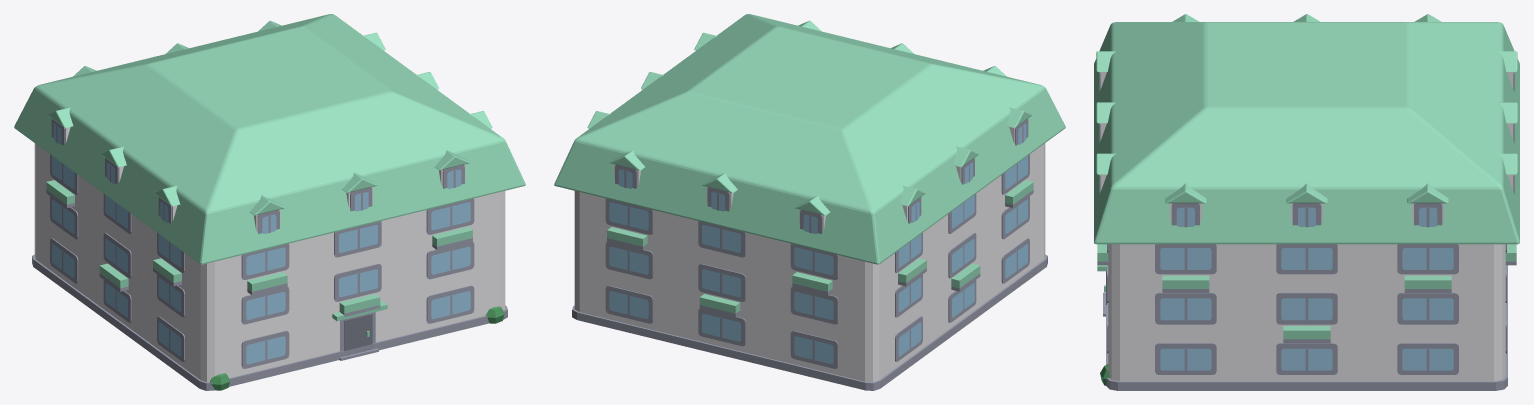
The model's file is house-2x2-3f-tone-a.glb.
The picture shows the model from 3 angles, left to right: view 1: azimuth 30°, elevation 25°; view 2: azimuth 150°, elevation 25°; view 3: azimuth 270°, elevation 25°; orthographic projection. The views are drawn at different scales.
Visible parts, largest first — view 1: house-2x2-3f-tone-a; view 2: house-2x2-3f-tone-a; view 3: house-2x2-3f-tone-a.
Part boxes in pixels (x1=…): house-2x2-3f-tone-a: x1=14, y1=14, x2=525, y2=390; house-2x2-3f-tone-a: x1=554, y1=14, x2=1065, y2=390; house-2x2-3f-tone-a: x1=1094, y1=14, x2=1519, y2=390.
Bounding box in the file's own units: 1.99 × 1.25 × 1.99.
1 material, 1 textured.
